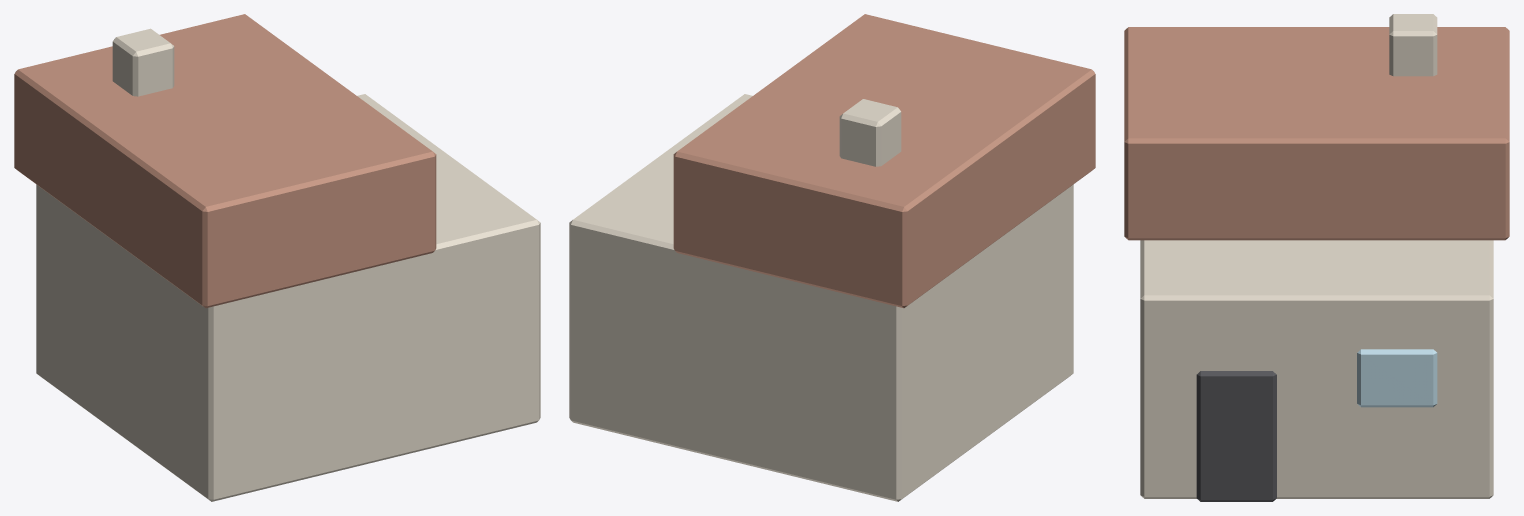
The model's file is civilian_house.glb.
3 views of the same model, side by side, from view 1: azimuth 30°, elevation 25°; view 2: azimuth 150°, elevation 25°; view 3: azimuth 270°, elevation 25° (orthographic).
Visible parts, largest first — view 1: civilian_house; view 2: civilian_house; view 3: civilian_house.
Part boxes in pixels (x1,y1,x2,y2): civilian_house: [14, 14, 540, 501]; civilian_house: [569, 14, 1095, 501]; civilian_house: [1124, 14, 1509, 501].
Bounding box in the file's own units: 2.54 × 2.4 × 2.4.
